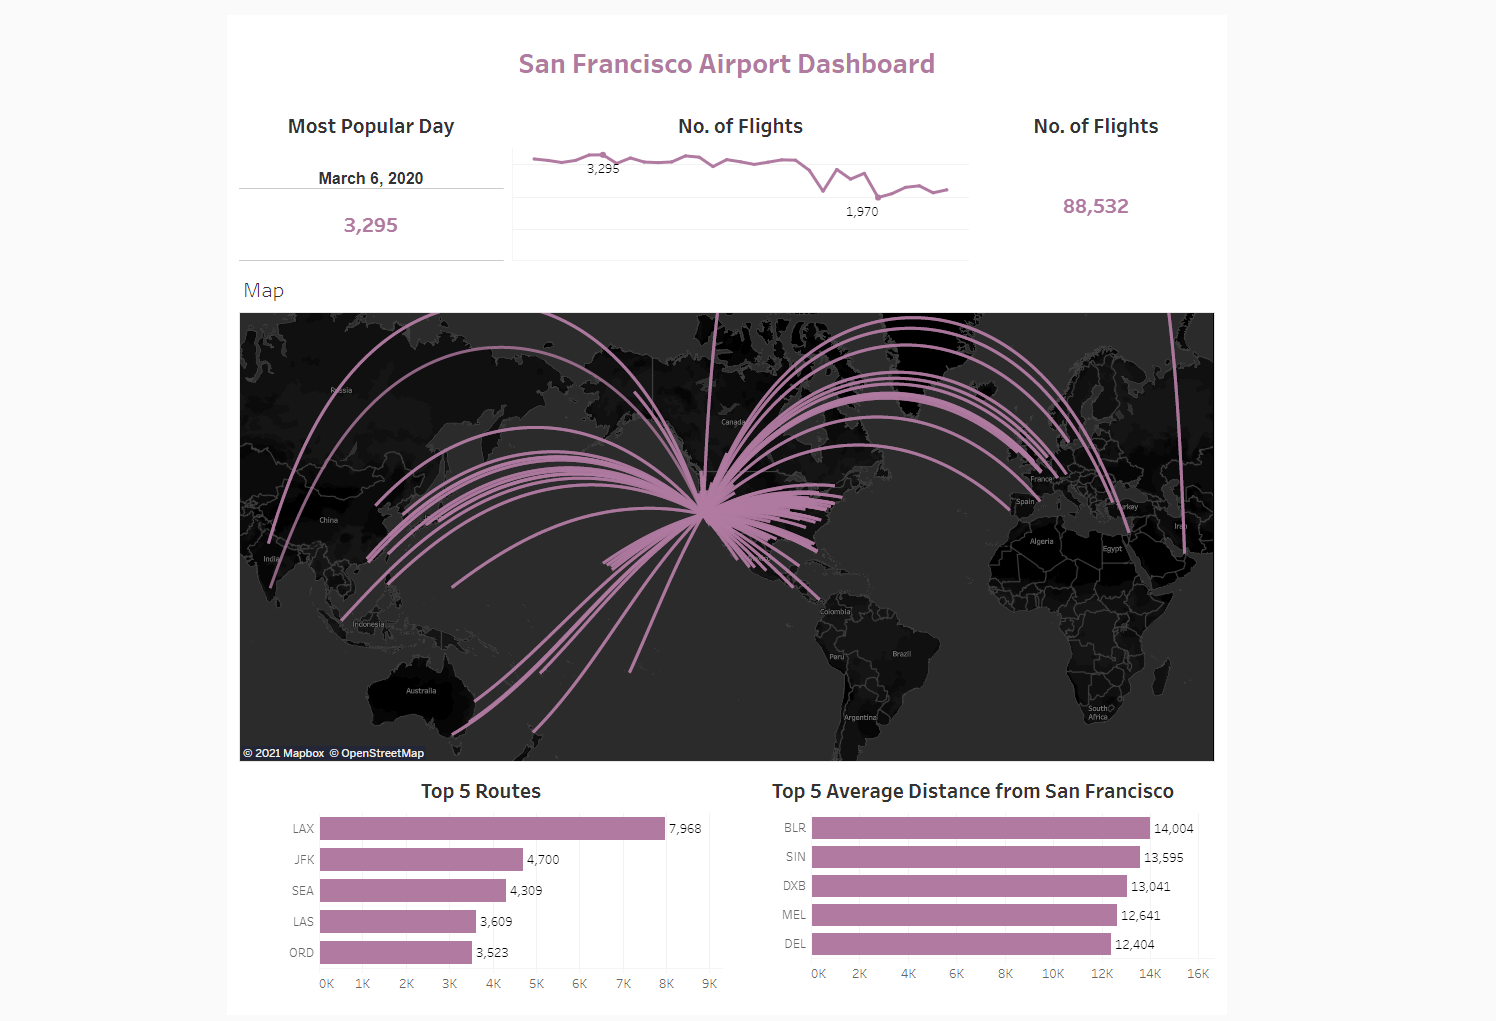

What the dashboard file says about the page in this screenshot:
{"tool":"tableau","page":{"name":"Dashboard 1","canvas":[1000,1000],"ordinal":0},"visuals":[{"type":"text","box":[8,8,984,77.8]},{"type":"worksheet","title":"Most Popular Day","mark":"Automatic","cols":["Date"],"box":[8,85.8,273,164.2]},{"type":"worksheet","title":"No. of Flights by day","mark":"Automatic","rows":["Number of Records"],"cols":["Date"],"box":[281,85.8,465,164.2]},{"type":"worksheet","title":"No. of Flights","mark":"Automatic","box":[746,85.8,246,164.2]},{"type":"worksheet","title":"Map","mark":"Multipolygon","box":[8,250,984,501]},{"type":"worksheet","title":"Routes","mark":"Automatic","rows":["Calculation_207447088281505792"],"cols":["Number of Records"],"box":[8,751,492,241]},{"type":"worksheet","title":"Distances","mark":"Automatic","rows":["Calculation_207447088281505792"],"cols":["Calculation_207447088282427395"],"box":[500,751,492,241]}]}

Visuals, with their boxes on the page's 1000x1000 design canvas (x1, y1, x2, y2). These are canvas units, not pixel positions in the 1496x1021 screenshot, which may show the page scaled, cropped or inside an application window:
text: {"x1": 8, "y1": 8, "x2": 992, "y2": 86}
"Most Popular Day" worksheet: {"x1": 8, "y1": 86, "x2": 281, "y2": 250}
"No. of Flights by day" worksheet: {"x1": 281, "y1": 86, "x2": 746, "y2": 250}
"No. of Flights" worksheet: {"x1": 746, "y1": 86, "x2": 992, "y2": 250}
"Map" worksheet (Multipolygon marks): {"x1": 8, "y1": 250, "x2": 992, "y2": 751}
"Routes" worksheet: {"x1": 8, "y1": 751, "x2": 500, "y2": 992}
"Distances" worksheet: {"x1": 500, "y1": 751, "x2": 992, "y2": 992}
